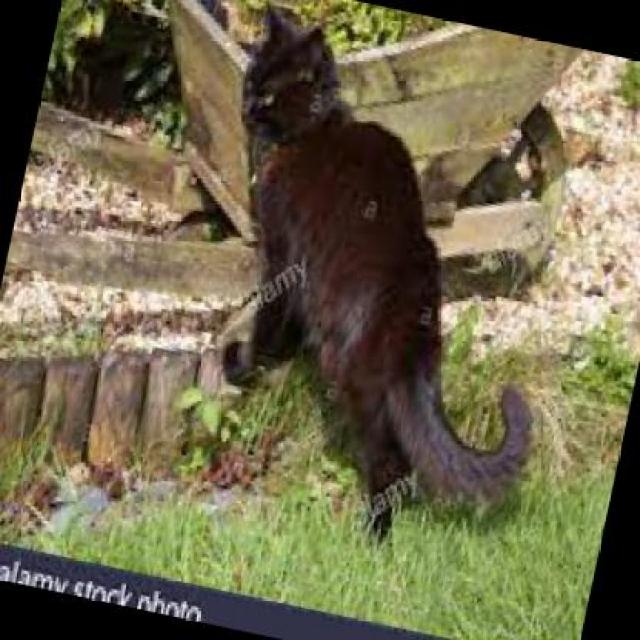animals: (141, 0, 640, 541)
